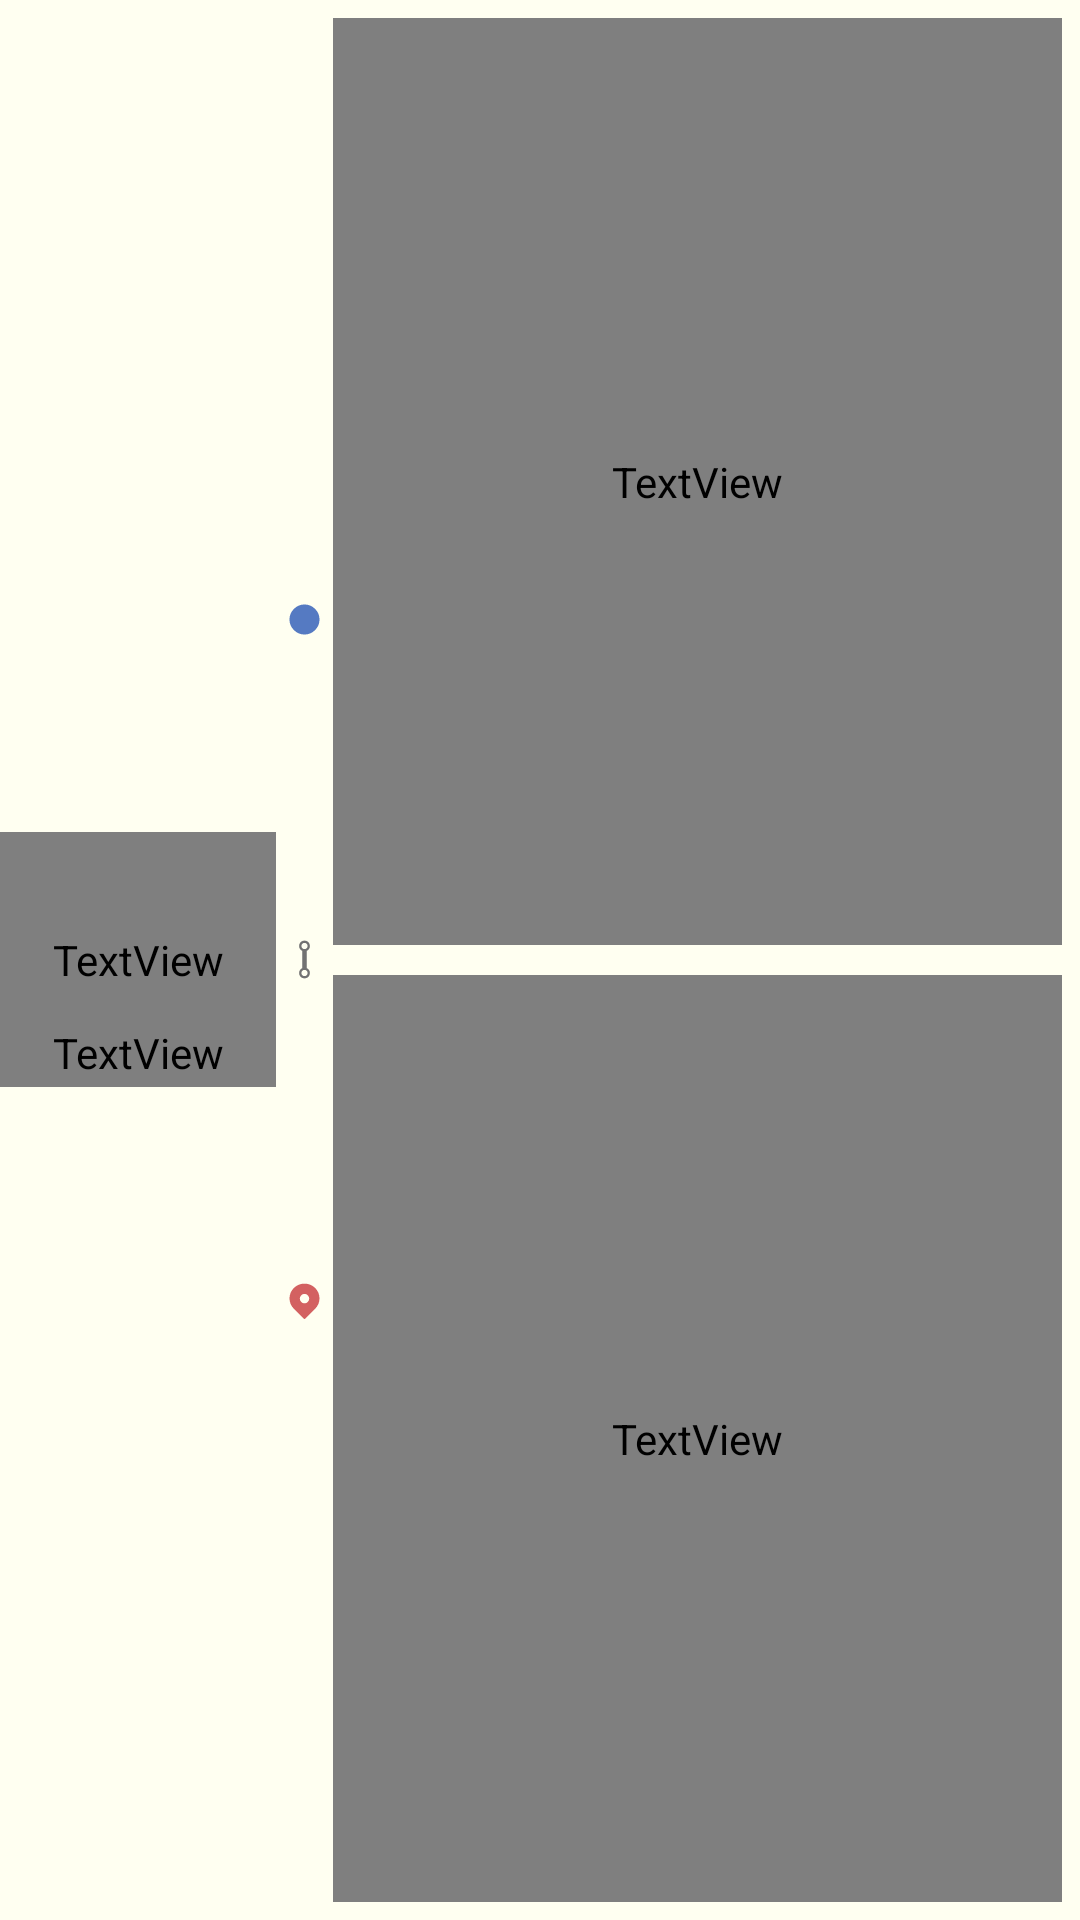

Screen size 1080×1920. Icon name, then its center in pixels as point (x, y):
bus route between: point (304, 959)
bus route destination: point (304, 1301)
bus route origin: point (304, 619)
